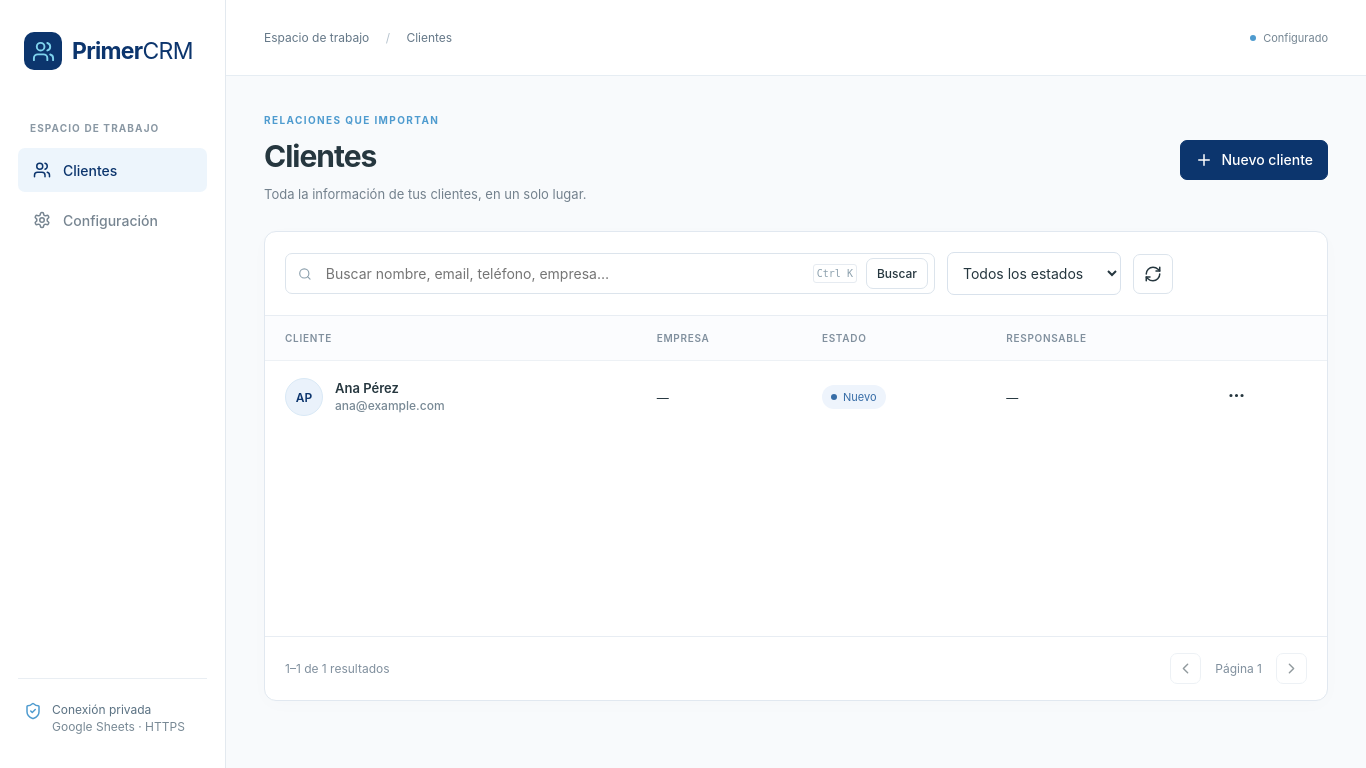
Scenario: CRM workflows with a mocked bridge; never calls Google › creates a client
Expected: the button "AP Ana Pérez ana@example.com" is shown, x1=285 y1=378 x2=444 y2=416
Click the button "Nuevo cliente": point(1254, 160) x1=1180 y1=140 x2=1328 y2=180
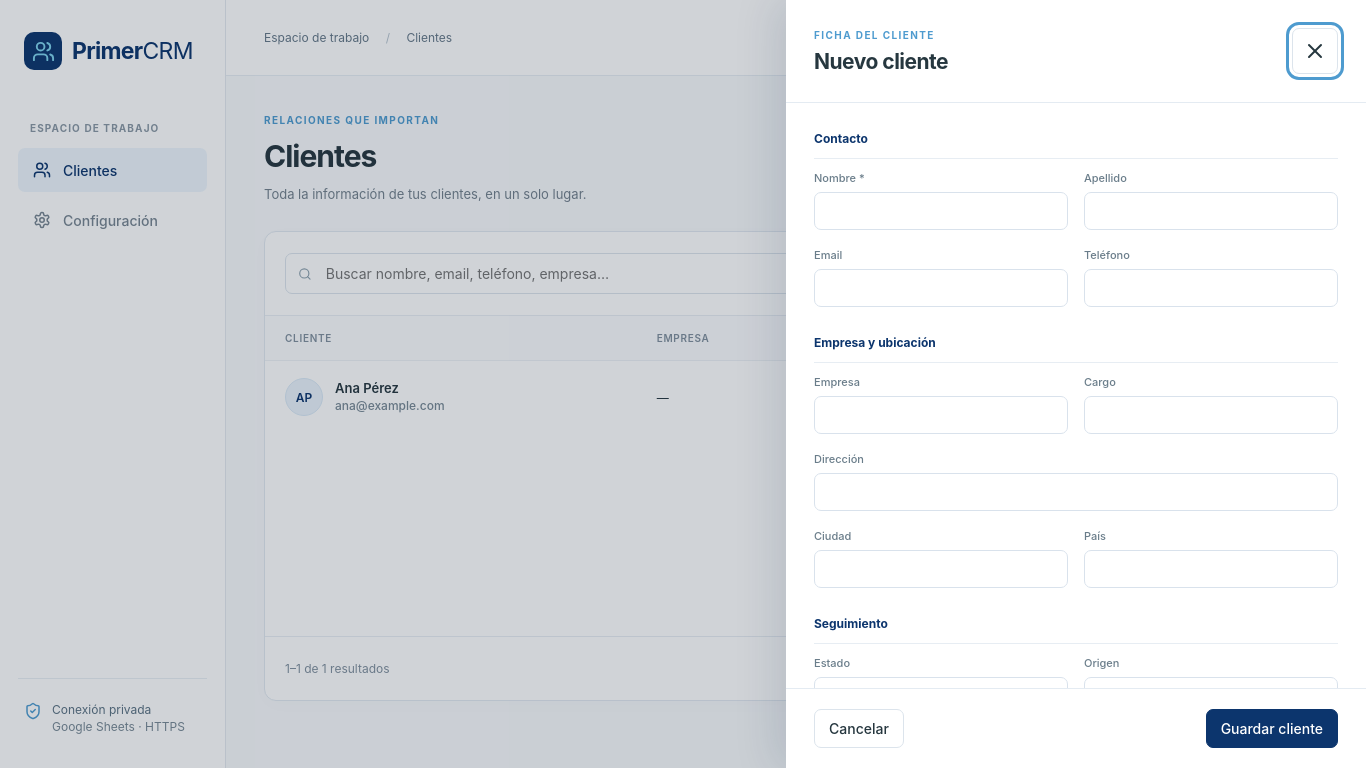
In the field labelled "Nombre *": point(941, 211) x1=814 y1=192 x2=1068 y2=230, type "Luis"
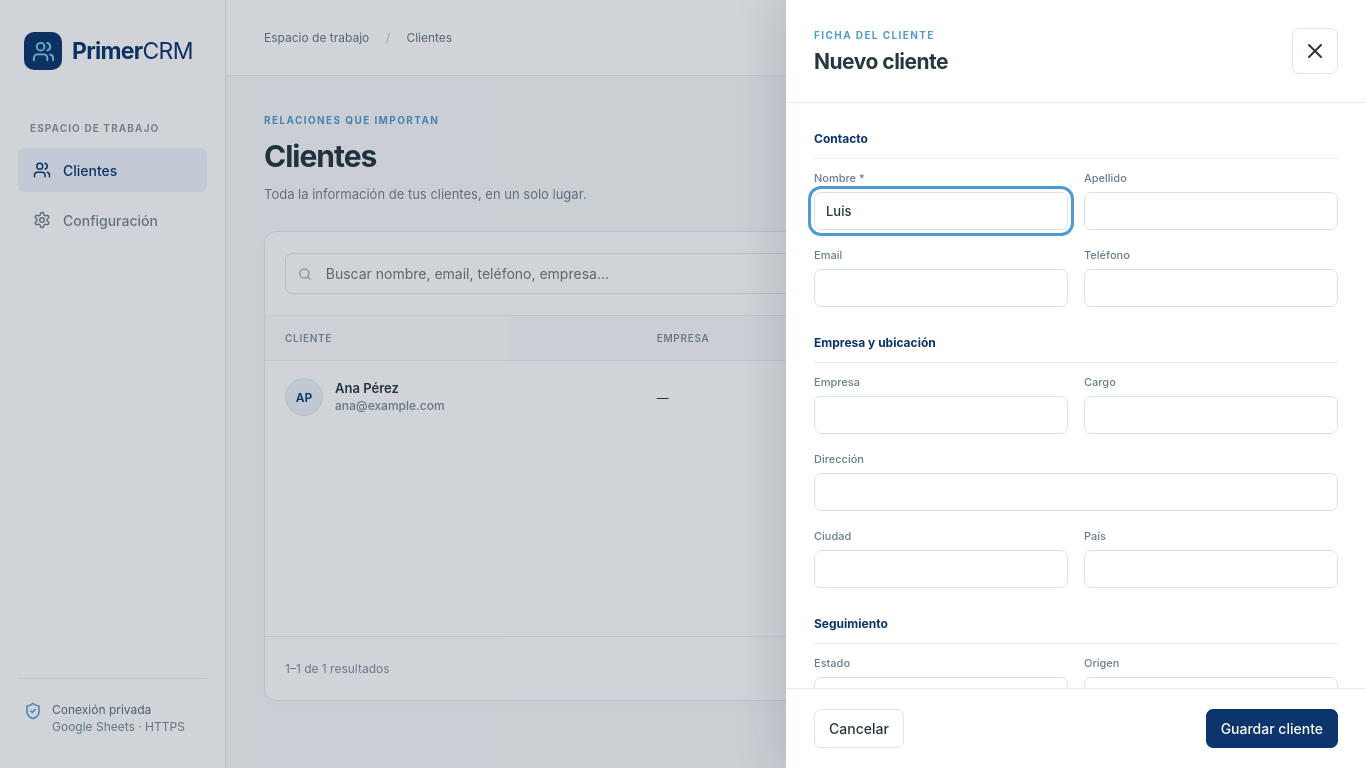
Click the button "Guardar cliente": point(1272, 728) x1=1206 y1=709 x2=1338 y2=748
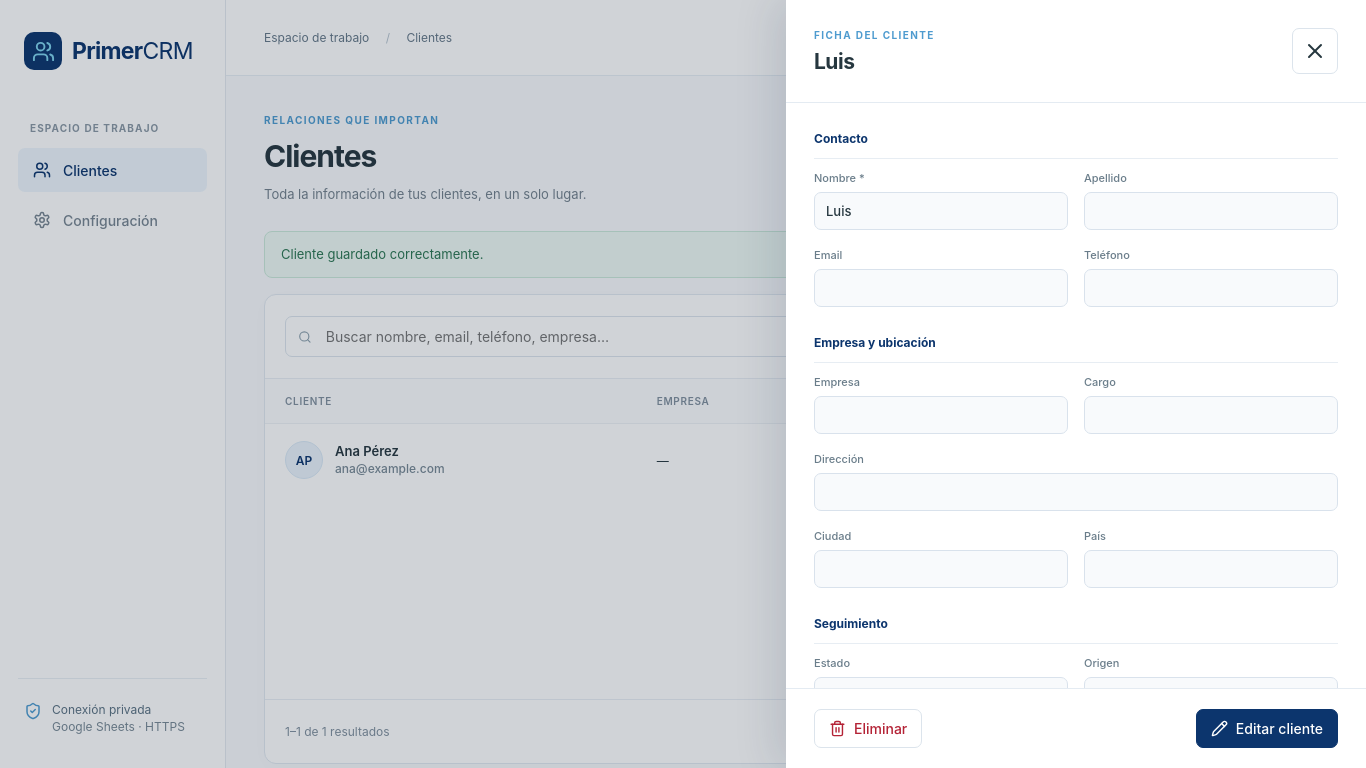
Expected: the text "Cliente guardado correctamente." is shown, x1=264 y1=231 x2=1328 y2=278
